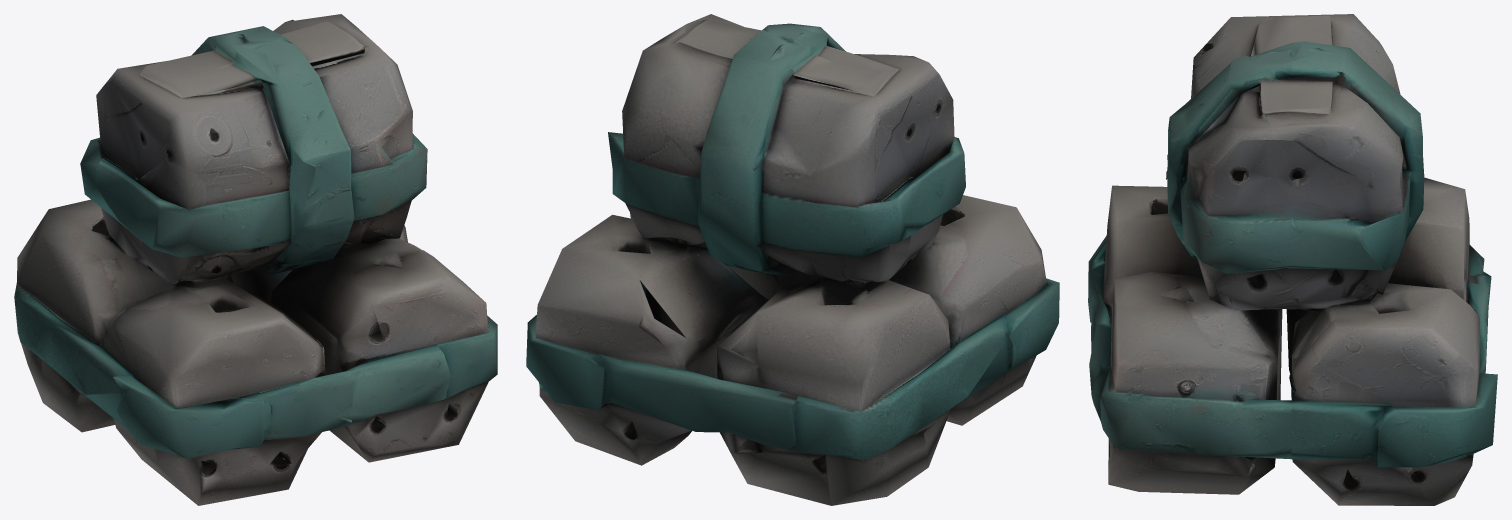
Rendered from utility_material_3000_v2.glb.
3 views of the same model, side by side, from view 1: azimuth 30°, elevation 25°; view 2: azimuth 150°, elevation 25°; view 3: azimuth 270°, elevation 25° (orthographic). The views are drawn at different scales.
Parts seen in each view (by area): view 1: tripo_node_8ddb1570-26fd-4f6e-8eb6-5bb7e68ebbf1; view 2: tripo_node_8ddb1570-26fd-4f6e-8eb6-5bb7e68ebbf1; view 3: tripo_node_8ddb1570-26fd-4f6e-8eb6-5bb7e68ebbf1.
Part boxes in pixels (bbox=[...]): tripo_node_8ddb1570-26fd-4f6e-8eb6-5bb7e68ebbf1: bbox=[14, 14, 497, 505]; tripo_node_8ddb1570-26fd-4f6e-8eb6-5bb7e68ebbf1: bbox=[526, 14, 1059, 505]; tripo_node_8ddb1570-26fd-4f6e-8eb6-5bb7e68ebbf1: bbox=[1088, 14, 1497, 505].
Size of the model in its own units: 0.9555 by 0.9277 by 0.8976.
1 material, 1 textured.
